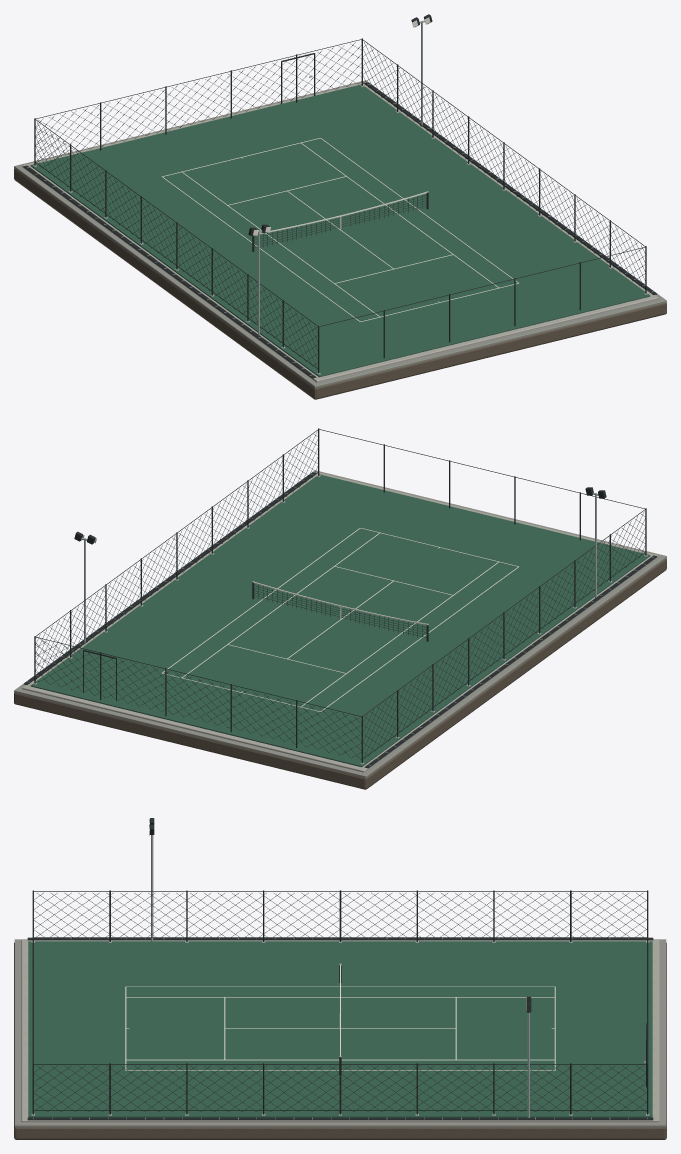
Rendered from tennis-MPeN0NXQ.glb.
3 views of the same model, one above another, from view 1: azimuth 30°, elevation 25°; view 2: azimuth 150°, elevation 25°; view 3: azimuth 270°, elevation 25° (orthographic). The views are drawn at different scales.
Visible parts, largest first — view 1: phase_finish__court, phase_details__graphite, phase_site__soil, phase_foundation__gravel, phase_foundation__concrete, phase_finish__graphite, phase_envelope__graphite, phase_finish__white; view 2: phase_finish__court, phase_details__graphite, phase_site__soil, phase_foundation__gravel, phase_foundation__concrete, phase_finish__graphite, phase_envelope__graphite, phase_finish__white; view 3: phase_finish__court, phase_details__graphite, phase_site__soil, phase_foundation__gravel, phase_foundation__concrete, phase_finish__graphite, phase_finish__white, phase_envelope__graphite, phase_structure__metal.
Part boxes in pixels (bbox=[...]): phase_finish__court: bbox=[30, 84, 650, 377]; phase_details__graphite: bbox=[35, 14, 645, 368]; phase_site__soil: bbox=[14, 168, 666, 399]; phase_foundation__gravel: bbox=[14, 80, 666, 388]; phase_foundation__concrete: bbox=[22, 82, 658, 382]; phase_finish__graphite: bbox=[23, 82, 656, 378]; phase_envelope__graphite: bbox=[34, 38, 646, 373]; phase_finish__white: bbox=[162, 138, 518, 322]; phase_finish__court: bbox=[30, 474, 650, 767]; phase_details__graphite: bbox=[35, 429, 645, 759]; phase_site__soil: bbox=[14, 558, 666, 789]; phase_foundation__gravel: bbox=[14, 470, 666, 778]; phase_foundation__concrete: bbox=[22, 472, 658, 772]; phase_finish__graphite: bbox=[24, 472, 657, 768]; phase_envelope__graphite: bbox=[34, 428, 646, 763]; phase_finish__white: bbox=[162, 528, 518, 711]; phase_finish__court: bbox=[28, 941, 652, 1117]; phase_details__graphite: bbox=[33, 818, 647, 1111]; phase_site__soil: bbox=[14, 942, 666, 1139]; phase_foundation__gravel: bbox=[14, 939, 666, 1127]; phase_foundation__concrete: bbox=[21, 940, 659, 1122]; phase_finish__graphite: bbox=[27, 937, 653, 1120]; phase_finish__white: bbox=[125, 986, 555, 1070]; phase_envelope__graphite: bbox=[32, 890, 648, 1114]; phase_structure__metal: bbox=[151, 835, 529, 1117].
Bounding box in the file's own units: 8.63 × 2.91 × 12.65.
Materials: 7 (2 with a texture image).
